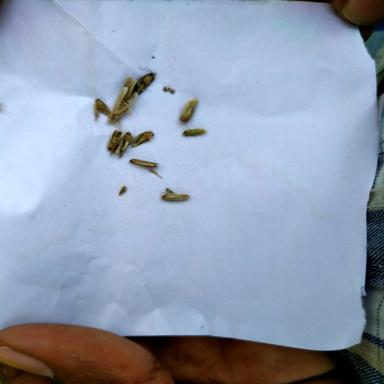pbw: (109, 86, 138, 122), (130, 65, 157, 95), (129, 158, 162, 178), (110, 130, 132, 158), (177, 98, 199, 122), (128, 131, 154, 147), (94, 98, 112, 121), (120, 77, 137, 100), (107, 129, 122, 151), (161, 191, 190, 201), (182, 128, 206, 136)
